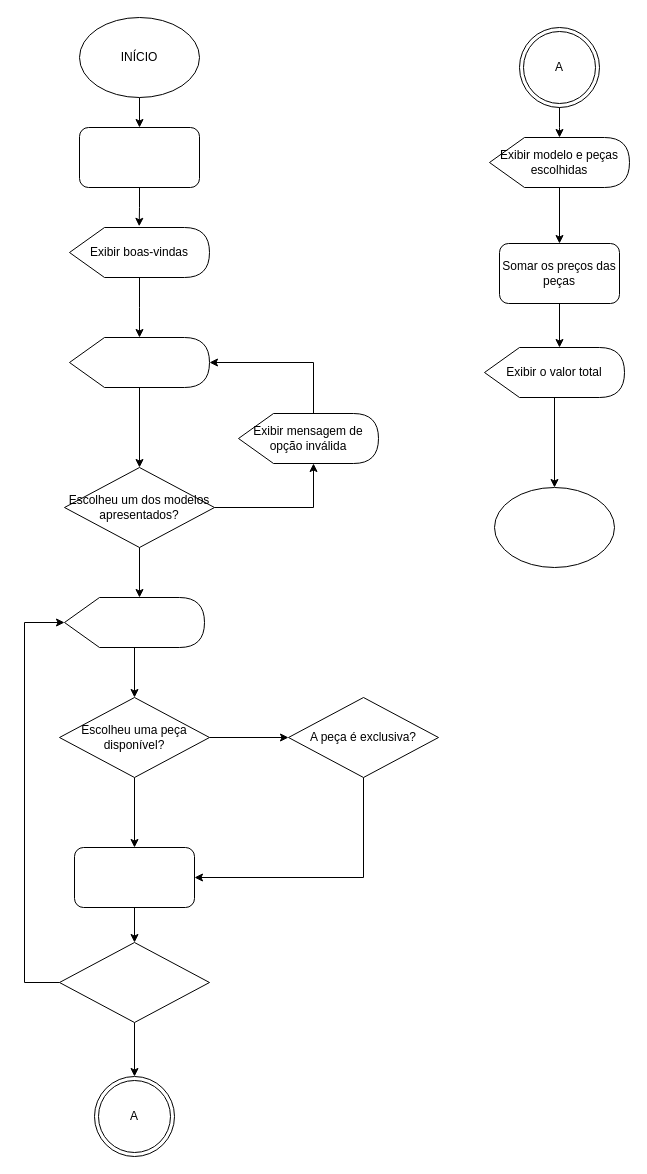
The diagram is 647 pixels wide and 1174 high, and some of its shapes have lost their labels. Each missing label, with the box of its shape:
Definir modelos, categorias, peças disponíveis e preços: (78, 126, 200, 188)
FIM: (494, 486, 614, 568)
Guardar peça escolhida: (74, 846, 194, 908)
Mostrar os 4 modelos de carro: (68, 336, 210, 388)
Mostrar peças (começando pela primeira): (64, 596, 204, 648)
Todas as peças foram escolhidas?: (58, 942, 210, 1022)
